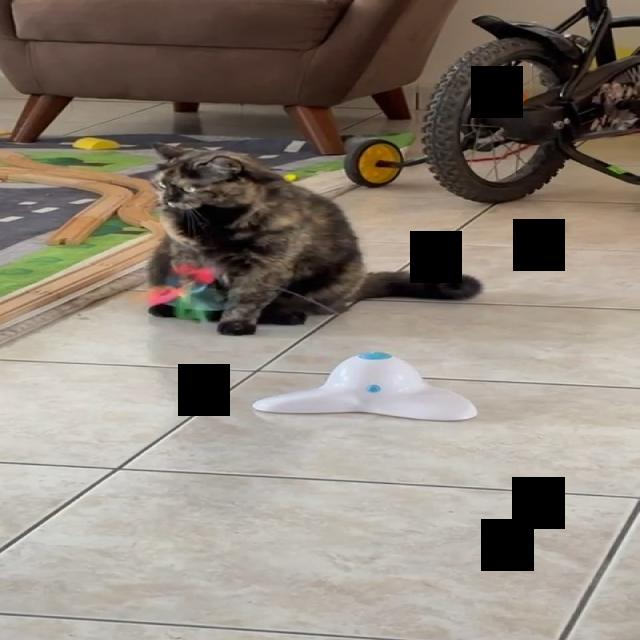authorized: (144, 141, 483, 336)
